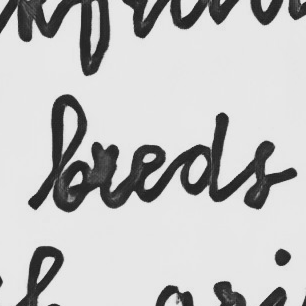b: (48, 93, 95, 214)
d: (177, 110, 232, 203)
e: (128, 143, 169, 205)
r: (88, 140, 125, 210)
s: (241, 138, 277, 210)
